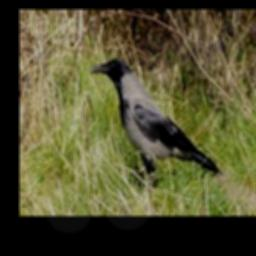Crow: (89, 58, 222, 187)
